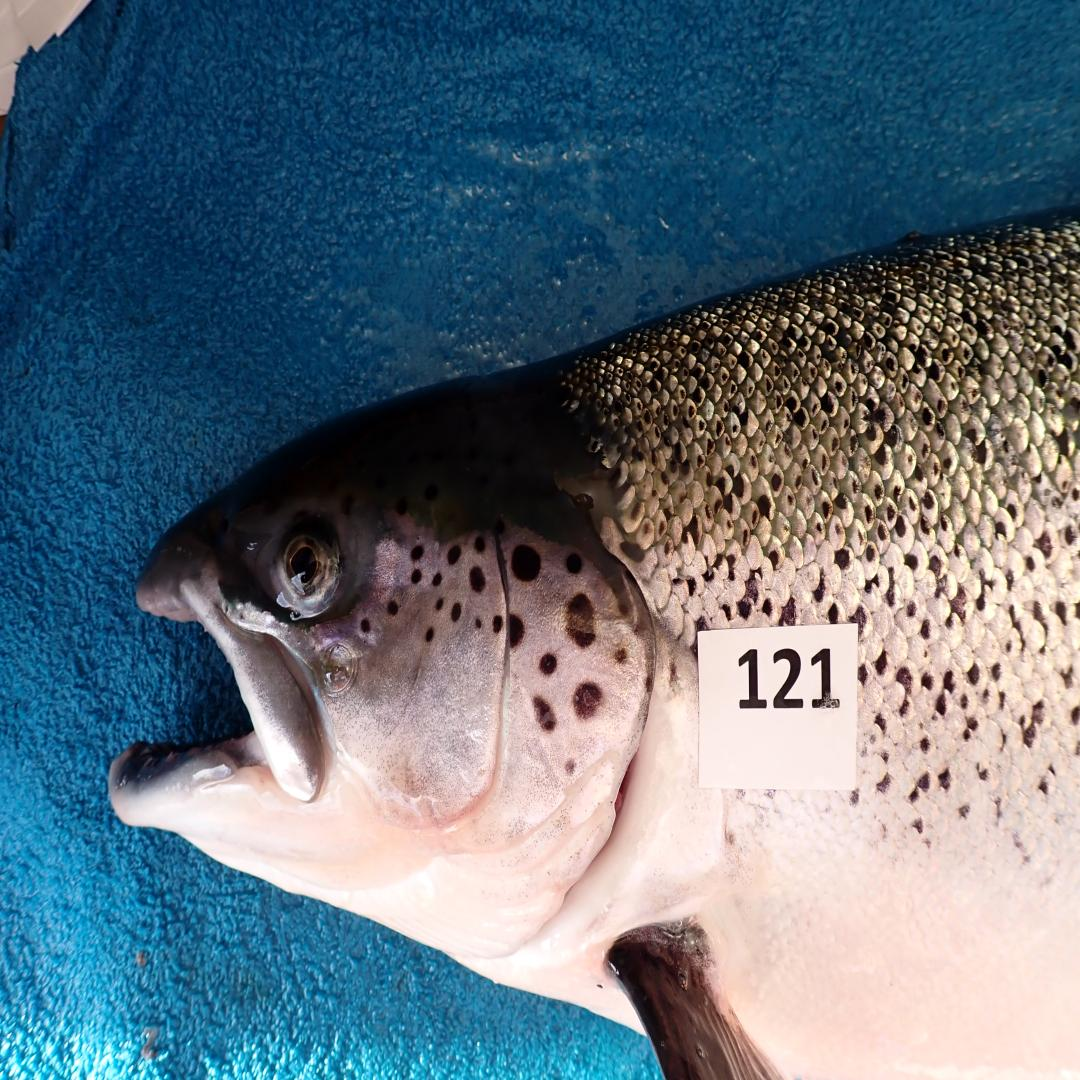roi: (320, 527, 656, 970)
